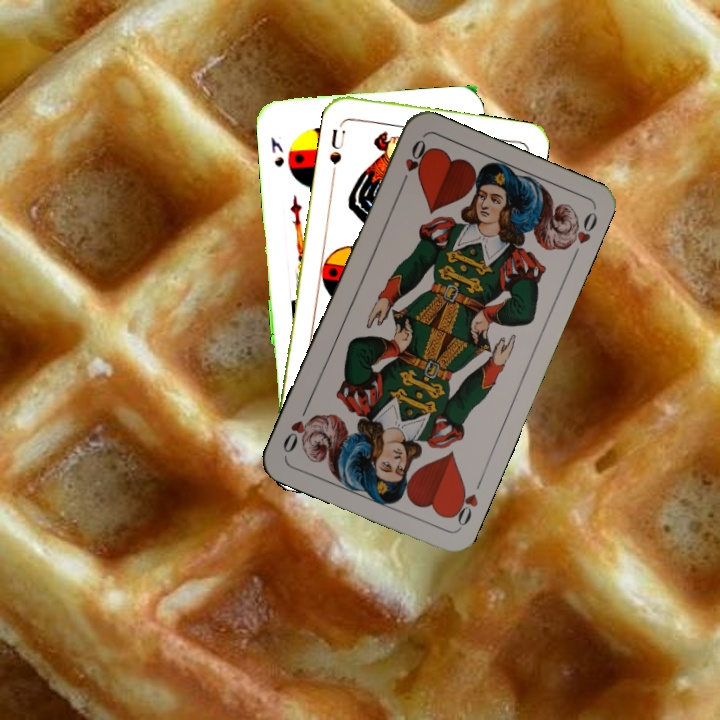HO: (396, 135, 430, 191), (446, 479, 481, 531)
SK: (267, 133, 287, 169)
SU: (325, 124, 348, 167)
